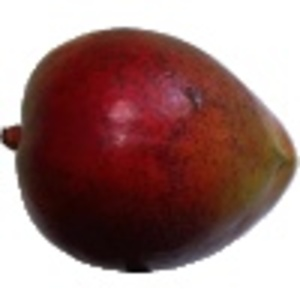manga: (1, 27, 300, 273)
